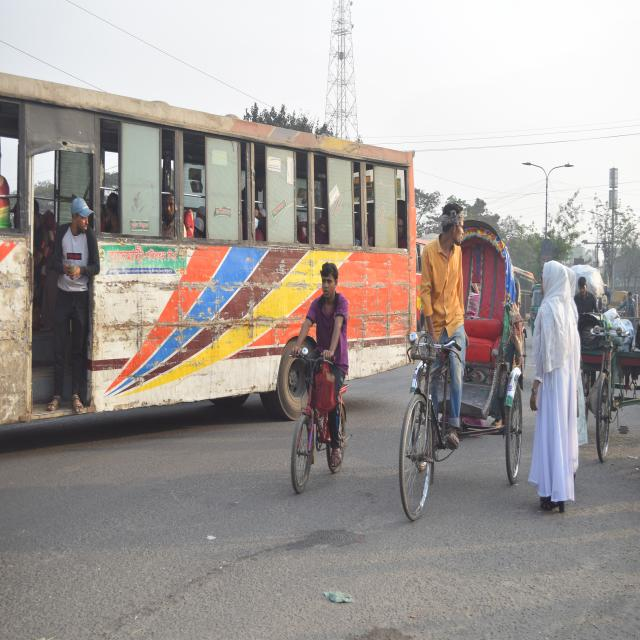bus: (1, 86, 425, 451)
